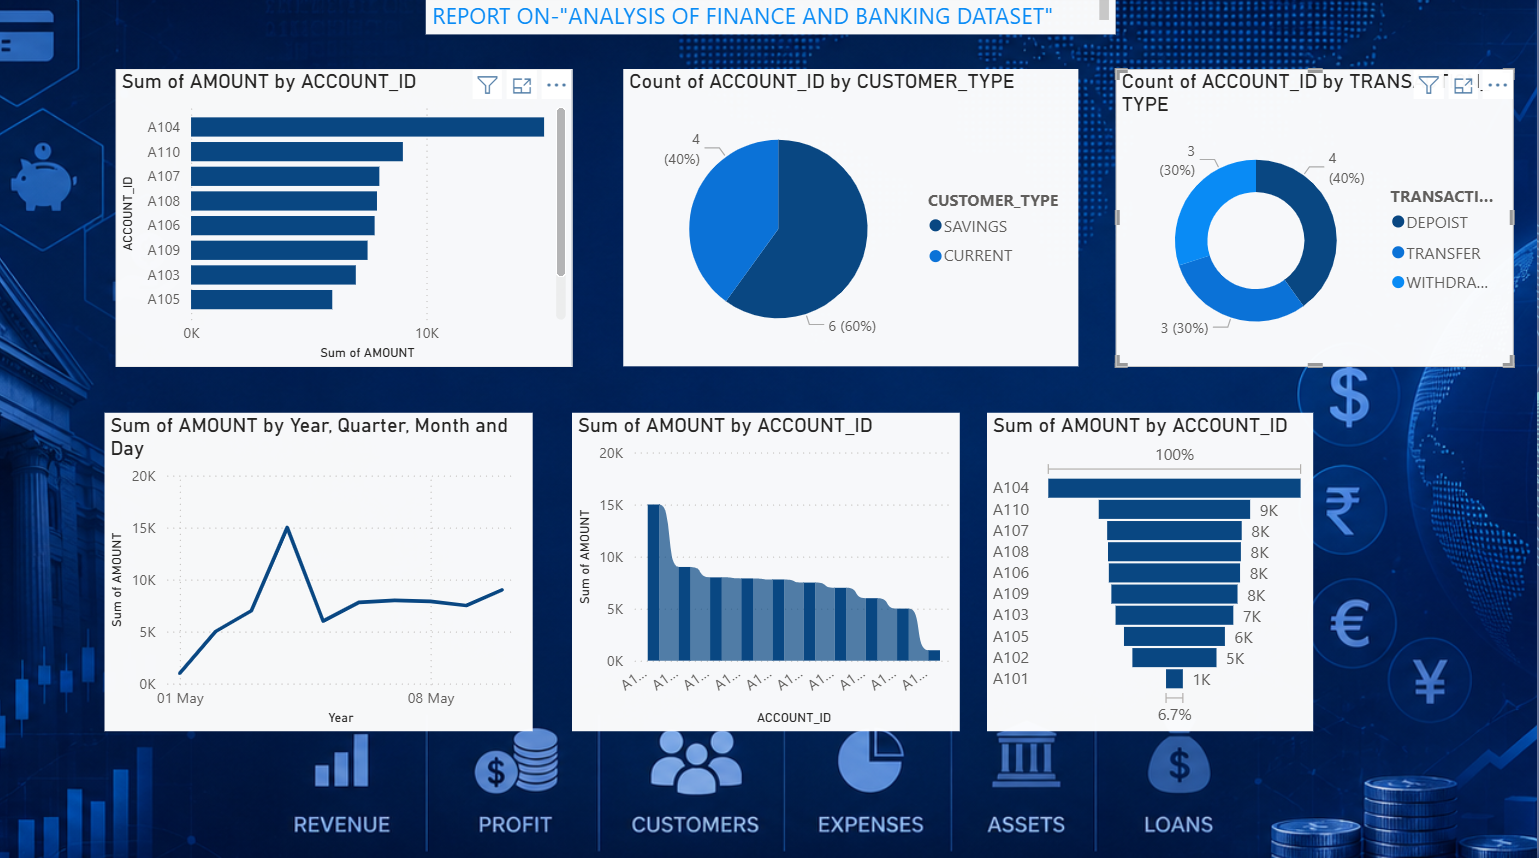

This screenshot's page, from the dashboard's own definition file:
{"tool":"powerbi","page":{"name":"Page 8","canvas":[1280,720],"ordinal":7},"visuals":[{"type":"barChart","fields":{"Category":["Table (7).ACCOUNT_ID"],"Y":["Sum(Table (7).AMOUNT)"]},"box":[98.7,62.4,379.3,247.3],"z":0},{"type":"pieChart","fields":{"Y":["CountNonNull(Table (7).ACCOUNT_ID)"],"Category":["Table (7).CUSTOMER_TYPE"]},"box":[520.7,62.4,378.3,247.3],"z":1},{"type":"donutChart","fields":{"Y":["CountNonNull(Table (7).ACCOUNT_ID)"],"Category":["Table (7).TRANSACTION_ TYPE"]},"box":[949.9,62.4,330.5,247.3],"z":2},{"type":"lineChart","fields":{"Y":["Sum(Table (7).AMOUNT)"],"Category":["Table (7).DATE.Variation.Date Hierarchy.Year","Table (7).DATE.Variation.Date Hierarchy.Quarter","Table (7).DATE.Variation.Date Hierarchy.Month","Table (7).DATE.Variation.Date Hierarchy.Day"]},"box":[89.5,347.7,355.8,265.1],"z":3},{"type":"ribbonChart","fields":{"Category":["Table (7).ACCOUNT_ID"],"Y":["Sum(Table (7).AMOUNT)"]},"box":[477.9,347.7,322.1,265.1],"z":4},{"type":"funnel","fields":{"Category":["Table (7).ACCOUNT_ID"],"Y":["Sum(Table (7).AMOUNT)"]},"box":[823.3,347.7,270.9,265.1],"z":5},{"type":"textbox","box":[357,0,573.3,33.7],"z":6}]}

Visuals, with their boxes in screenshot pixels (x1, y1, x2, y2), scaled from the page's 1280x720 canvas onto the 1539x858 screenshot:
barChart - Table (7).ACCOUNT_ID x Sum(Table (7).AMOUNT): [119,74,575,369]
pieChart - CountNonNull(Table (7).ACCOUNT_ID) x Table (7).CUSTOMER_TYPE: [626,74,1081,369]
donutChart - CountNonNull(Table (7).ACCOUNT_ID) x Table (7).TRANSACTION_ TYPE: [1142,74,1538,369]
lineChart - Sum(Table (7).AMOUNT) x Table (7).DATE.Variation.Date Hierarchy.Year: [108,414,535,730]
ribbonChart - Table (7).ACCOUNT_ID x Sum(Table (7).AMOUNT): [575,414,962,730]
funnel - Table (7).ACCOUNT_ID x Sum(Table (7).AMOUNT): [990,414,1316,730]
textbox: [429,0,1119,40]
